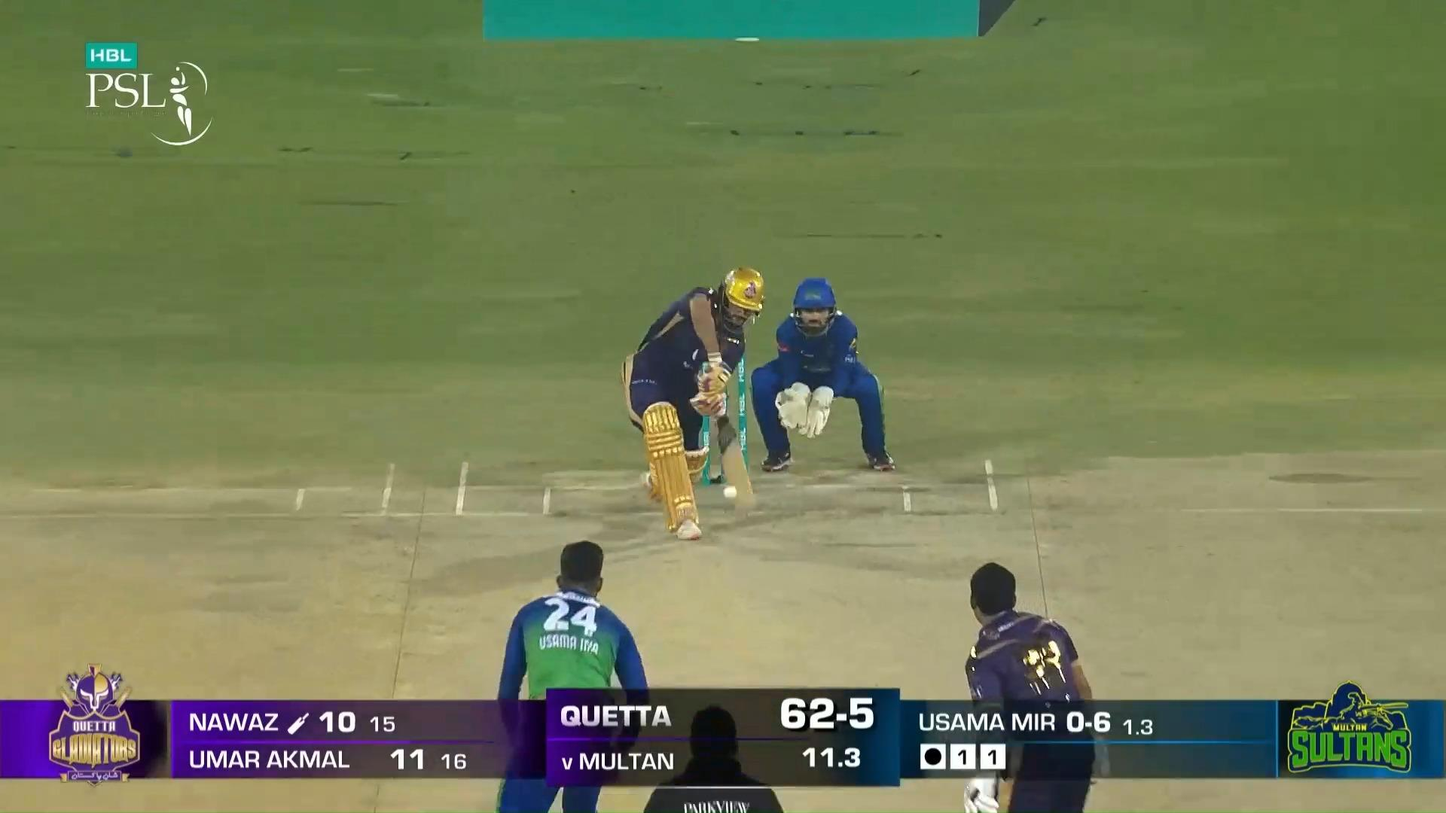batsman: (620, 266, 764, 540)
